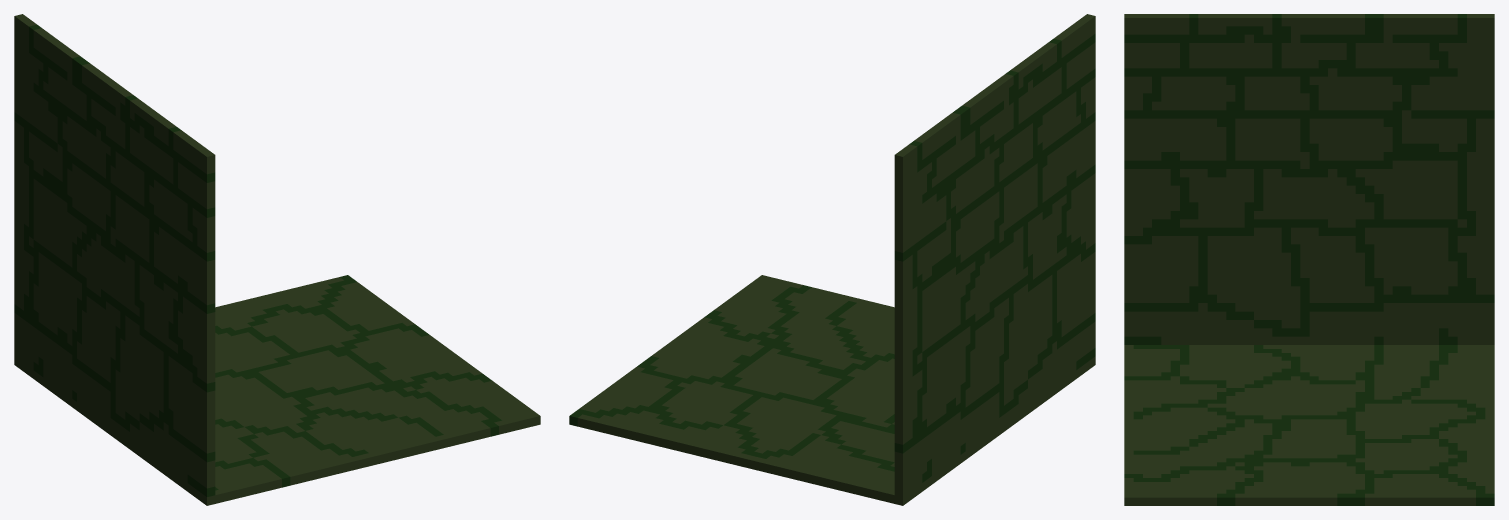
Rendered from Cave.obj.
The picture shows the model from 3 angles, left to right: view 1: azimuth 30°, elevation 25°; view 2: azimuth 150°, elevation 25°; view 3: azimuth 270°, elevation 25°; orthographic projection. The views are drawn at different scales.
Bounding box in the file's own units: 4 × 4 × 4.
Materials: 1 (1 with a texture image).
